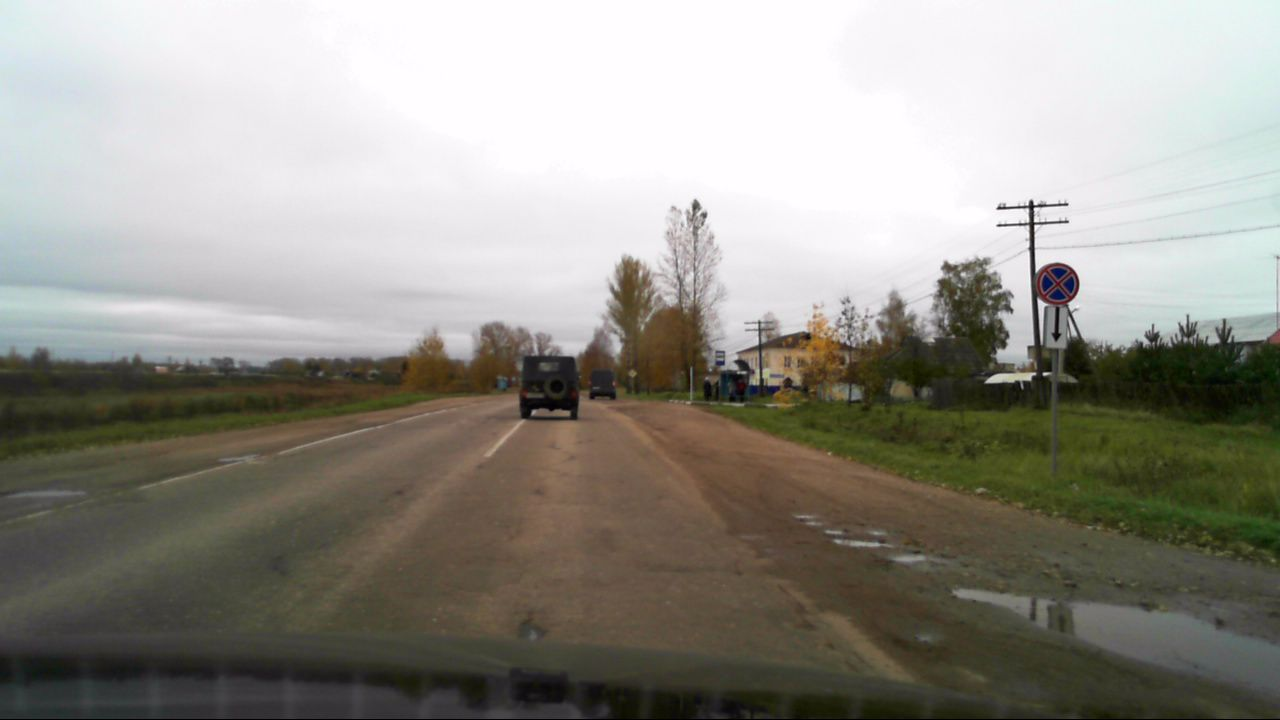No Parking: (1037, 263, 1080, 305)
